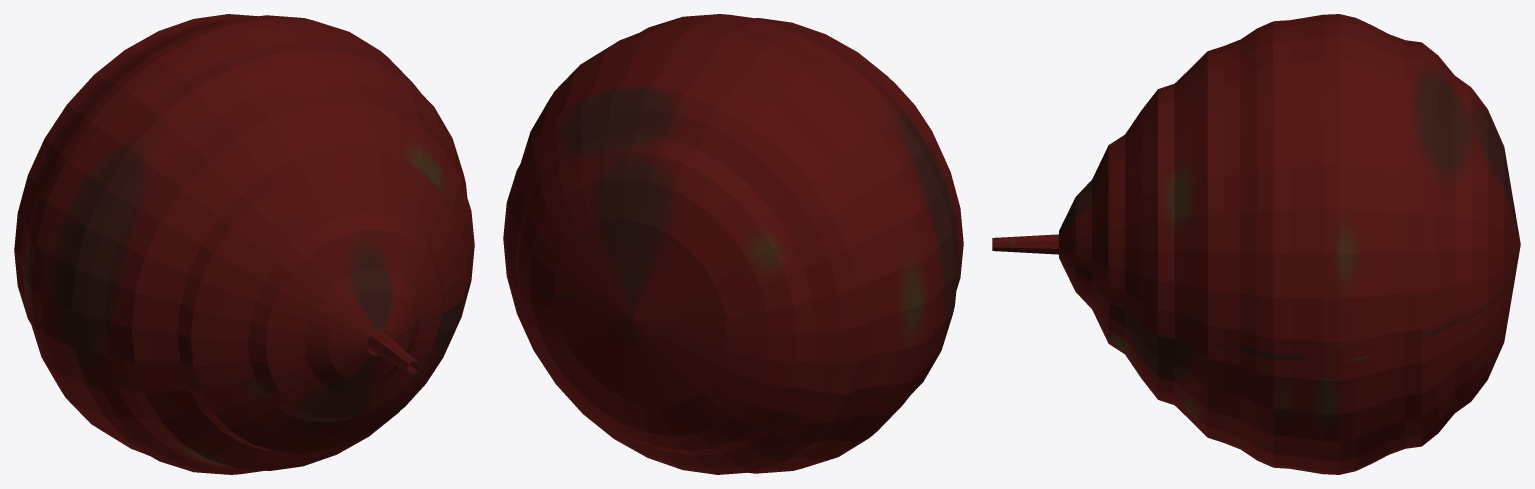
The model's file is apple_08_realistic.obj.
The picture shows the model from 3 angles, left to right: view 1: azimuth 30°, elevation 25°; view 2: azimuth 150°, elevation 25°; view 3: azimuth 270°, elevation 25°; orthographic projection. The views are drawn at different scales.
Size of the model in its own units: 2 by 2 by 2.29.
Materials: 1 (1 with a texture image).
